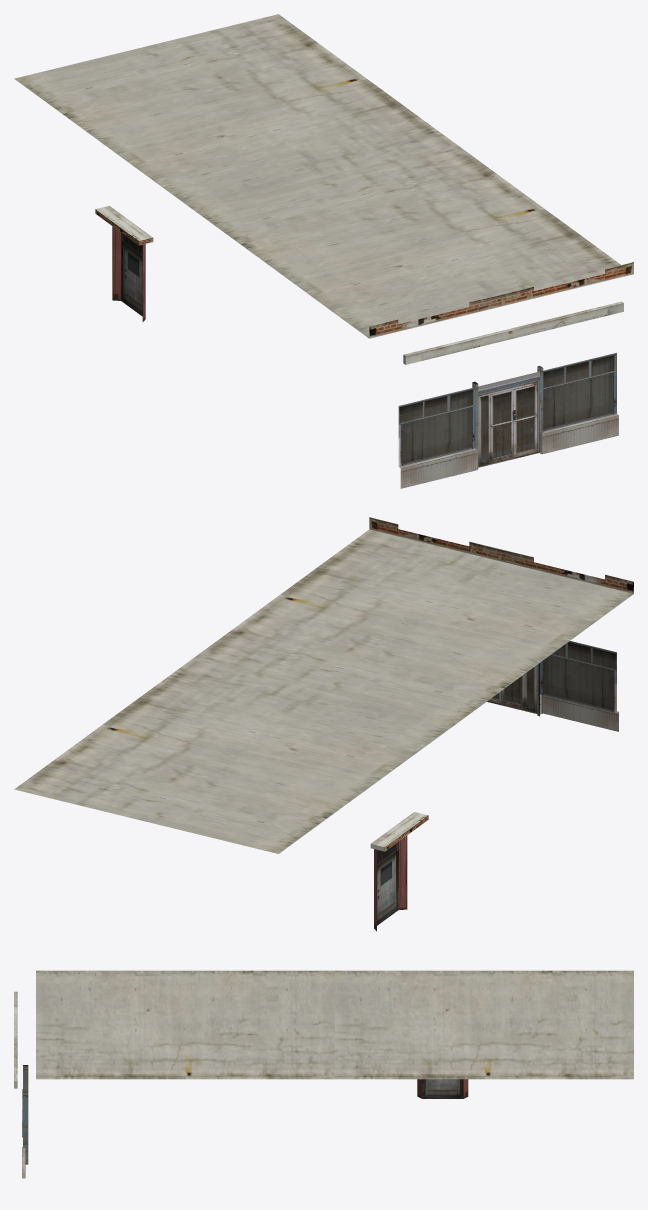
Rendered from rural_storesmall_5_rural_facade_flr_2_0.glb.
3 views of the same model, one above another, from view 1: azimuth 30°, elevation 25°; view 2: azimuth 150°, elevation 25°; view 3: azimuth 270°, elevation 25° (orthographic). The views are drawn at different scales.
Visible parts, largest first — view 1: Rural_StoreSmall_5_Rural_Facade_FLR_2_0; view 2: Rural_StoreSmall_5_Rural_Facade_FLR_2_0; view 3: Rural_StoreSmall_5_Rural_Facade_FLR_2_0.
Part boxes in pixels (box(x1,y1,x2,y2)): Rural_StoreSmall_5_Rural_Facade_FLR_2_0: box(14, 14, 633, 488); Rural_StoreSmall_5_Rural_Facade_FLR_2_0: box(14, 517, 633, 931); Rural_StoreSmall_5_Rural_Facade_FLR_2_0: box(14, 970, 633, 1178).
Bounding box in the file's own units: 6.21 × 3.46 × 14.29.
Materials: 1 (1 with a texture image).
